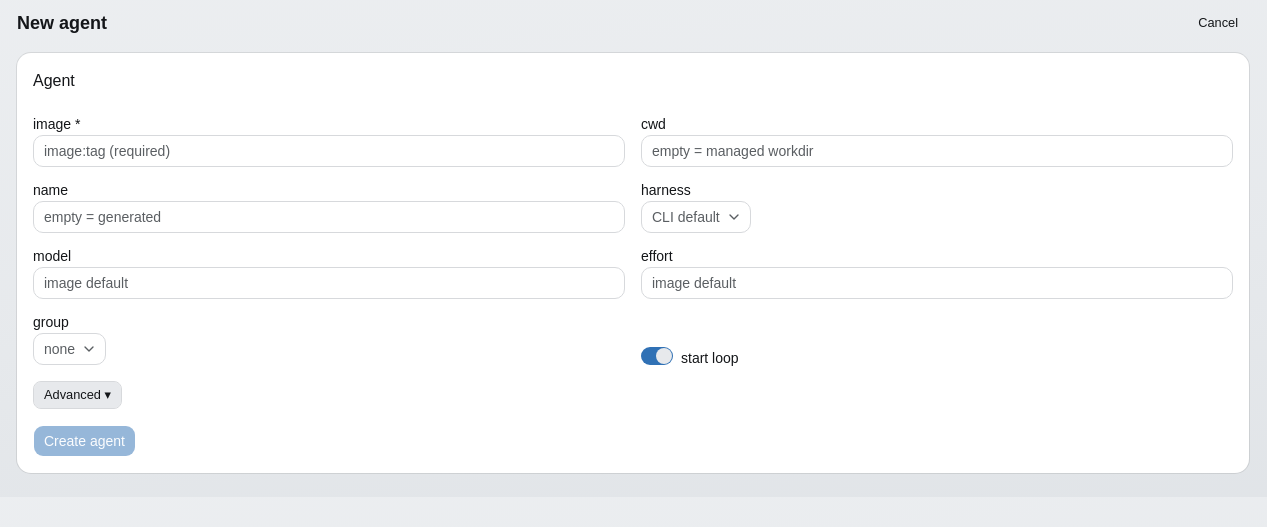
Test: does not remember custom runtime values when creation from the page fails
Focus the field labelled "image": (329, 151) [33,135,625,167]
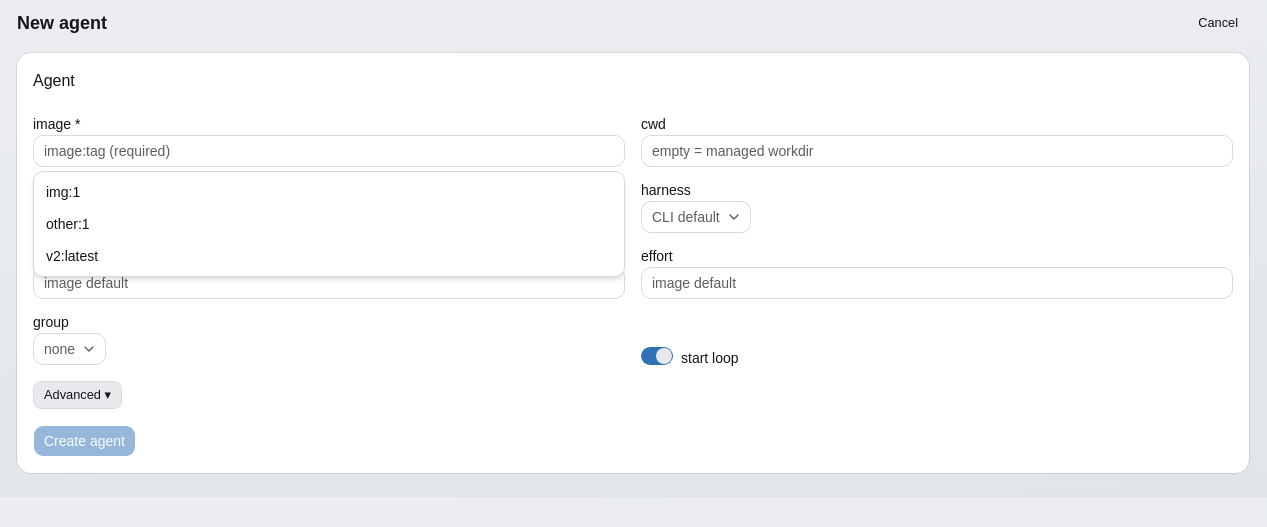
Click the option "img:1": (63, 192) [38,176,620,208]
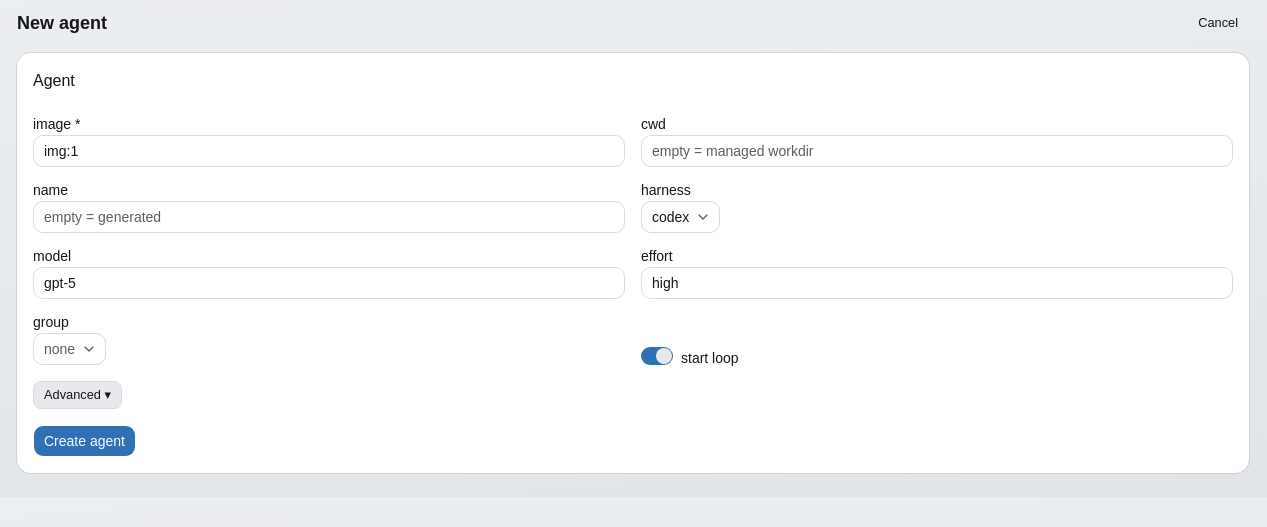
Expected: the dropdown showing "gpt-5" is shown
Replace the text in the dropdown labelled "model" with "private-model": (329, 283) [33,267,625,299]
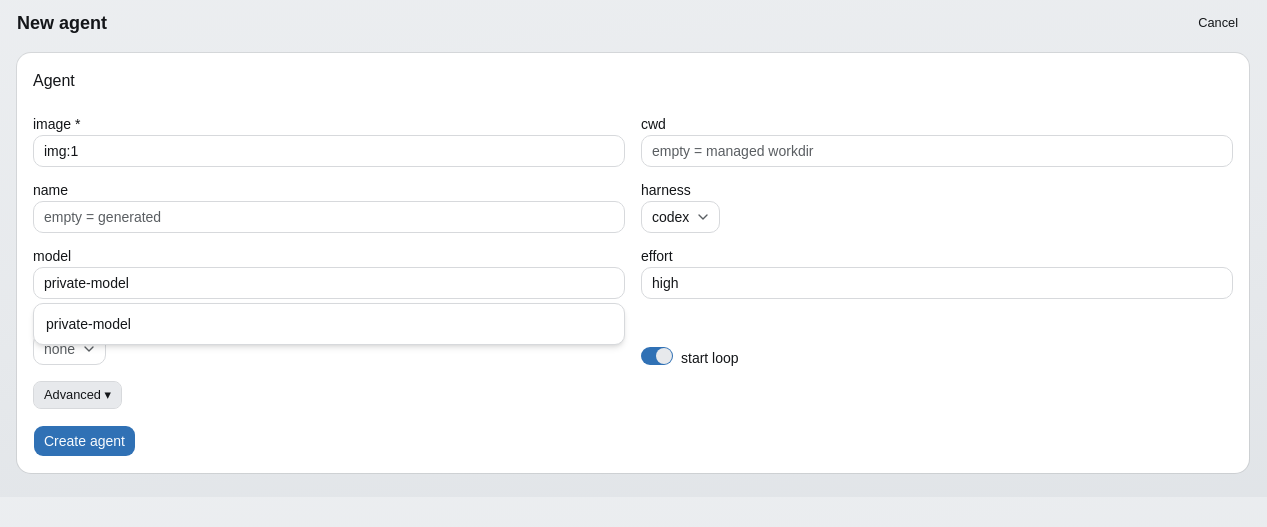
Click the button "Create agent": (84, 441) [33,425,136,457]
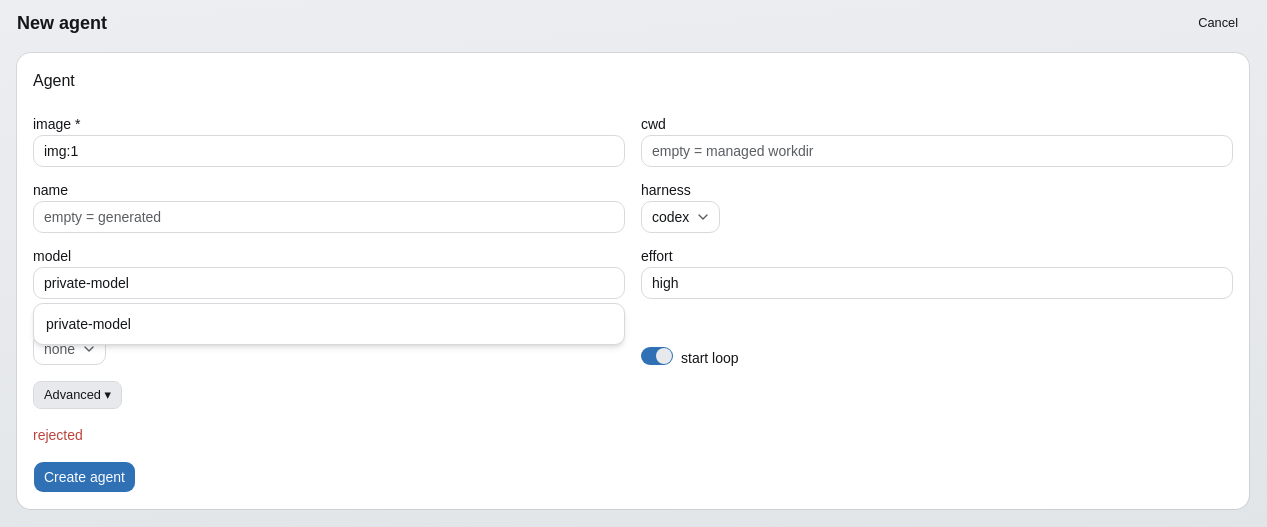
Expected: the text "rejected" is shown, [33,427,83,443]
